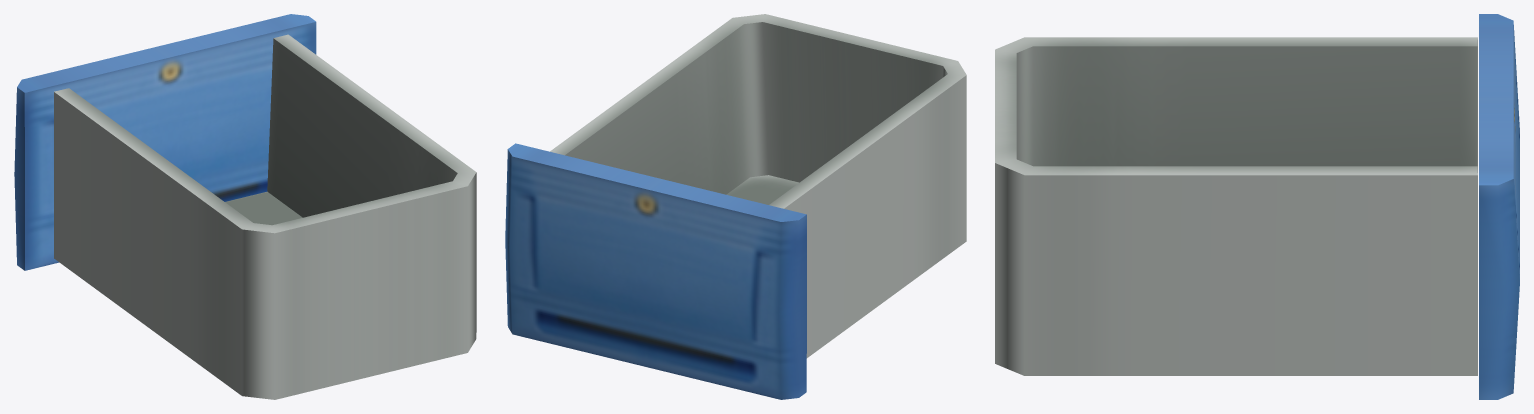
File: PlasticCabinet_DrawerSmoll_L.fbx
The picture shows the model from 3 angles, left to right: view 1: azimuth 30°, elevation 25°; view 2: azimuth 150°, elevation 25°; view 3: azimuth 270°, elevation 25°; orthographic projection. The views are drawn at different scales.
Visible parts, largest first — view 1: DrawerSmoll_L; view 2: DrawerSmoll_L; view 3: DrawerSmoll_L.
Part boxes in pixels (x1,y1,x2,y2): DrawerSmoll_L: [14, 14, 476, 399]; DrawerSmoll_L: [505, 14, 966, 399]; DrawerSmoll_L: [995, 14, 1519, 399].
Size of the model in its own units: 63.75 by 37.19 by 82.44.
Materials: 1 (1 with a texture image).
